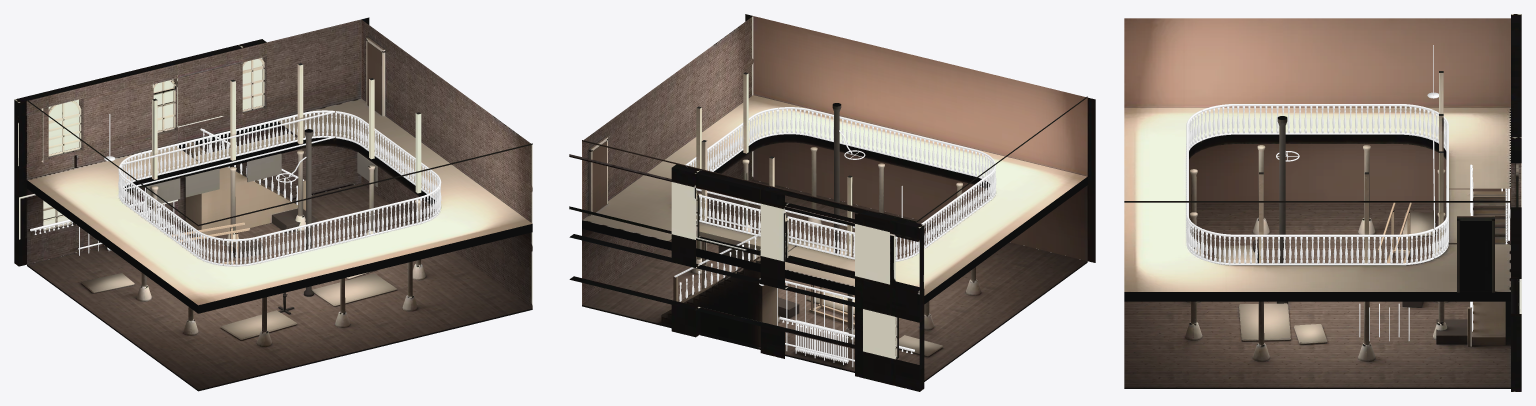
The model's file is naismith-springfield-gym-mobile.glb.
3 views of the same model, side by side, from view 1: azimuth 30°, elevation 25°; view 2: azimuth 150°, elevation 25°; view 3: azimuth 270°, elevation 25° (orthographic). The views are drawn at different scales.
Visible parts, largest first — view 1: floor, wall_north, gallery_deck, wall_east, artifact_gallery_rail_north, stair_stringer_panel, artifact_gallery_rail_south, artifact_mats, gallery_rail_west, posts_upper, artifact_signboards, gallery_rail_east (+13 smaller); view 2: wall_south_unphotographed, gallery_deck, floor, wall_north, wall_east, stair_stringer_panel, artifact_gallery_rail_south, artifact_gallery_rail_north, gallery_rail_west, window_north_arched, posts_upper, gallery_rail_east (+13 smaller); view 3: wall_west_unphotographed, floor, gallery_deck, gallery_rail_east, gallery_rail_west, wall_north, artifact_mats, door_east_upper, stair_stringer_panel, columns_gallery, posts_upper, column_bases (+8 smaller).
Part boxes in pixels (x1,y1,x2,y2): floor: (27, 183, 532, 391); wall_north: (14, 17, 369, 266); gallery_deck: (27, 98, 532, 313); wall_east: (361, 19, 532, 307); artifact_gallery_rail_north: (120, 110, 335, 189); stair_stringer_panel: (185, 143, 297, 239); artifact_gallery_rail_south: (224, 186, 439, 266); artifact_mats: (81, 270, 397, 340); gallery_rail_west: (118, 164, 224, 265); posts_upper: (152, 63, 421, 193); artifact_signboards: (146, 152, 377, 206); gallery_rail_east: (335, 111, 441, 211); wall_south_unphotographed: (745, 14, 1095, 262); gallery_deck: (582, 95, 1087, 304); floor: (582, 179, 1087, 381); wall_north: (569, 154, 924, 391); wall_east: (582, 16, 753, 304); stair_stringer_panel: (661, 261, 778, 346); artifact_gallery_rail_south: (778, 107, 993, 184); artifact_gallery_rail_north: (696, 188, 854, 259); gallery_rail_west: (895, 160, 996, 261); window_north_arched: (855, 224, 889, 284); posts_upper: (696, 72, 852, 256); gallery_rail_east: (685, 107, 777, 171); wall_west_unphotographed: (1124, 18, 1510, 203); floor: (1124, 203, 1510, 388); gallery_deck: (1124, 107, 1510, 301); gallery_rail_east: (1201, 228, 1434, 265); gallery_rail_west: (1200, 104, 1432, 140); wall_north: (1511, 14, 1521, 391); artifact_mats: (1213, 212, 1436, 344); door_east_upper: (1457, 216, 1494, 292); stair_stringer_panel: (1472, 191, 1505, 345); columns_gallery: (1190, 145, 1445, 344); posts_upper: (1259, 71, 1443, 263); column_bases: (1185, 217, 1447, 361).
Bounding box in the file's own units: 13 × 5.9 × 11.31.
5 materials, 4 textured.
